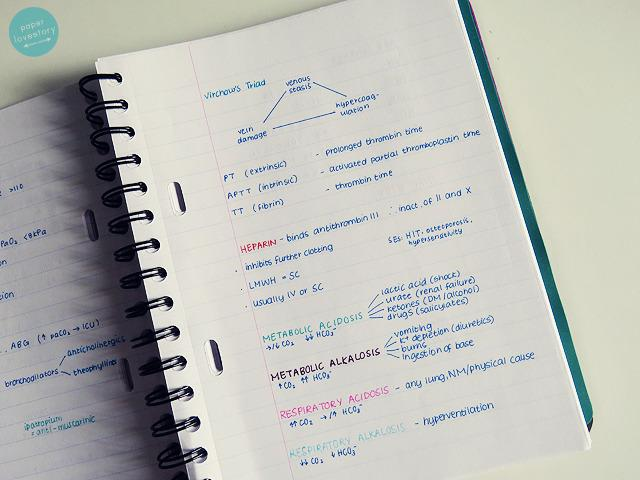paper: (112, 0, 586, 480), (0, 96, 152, 480)
